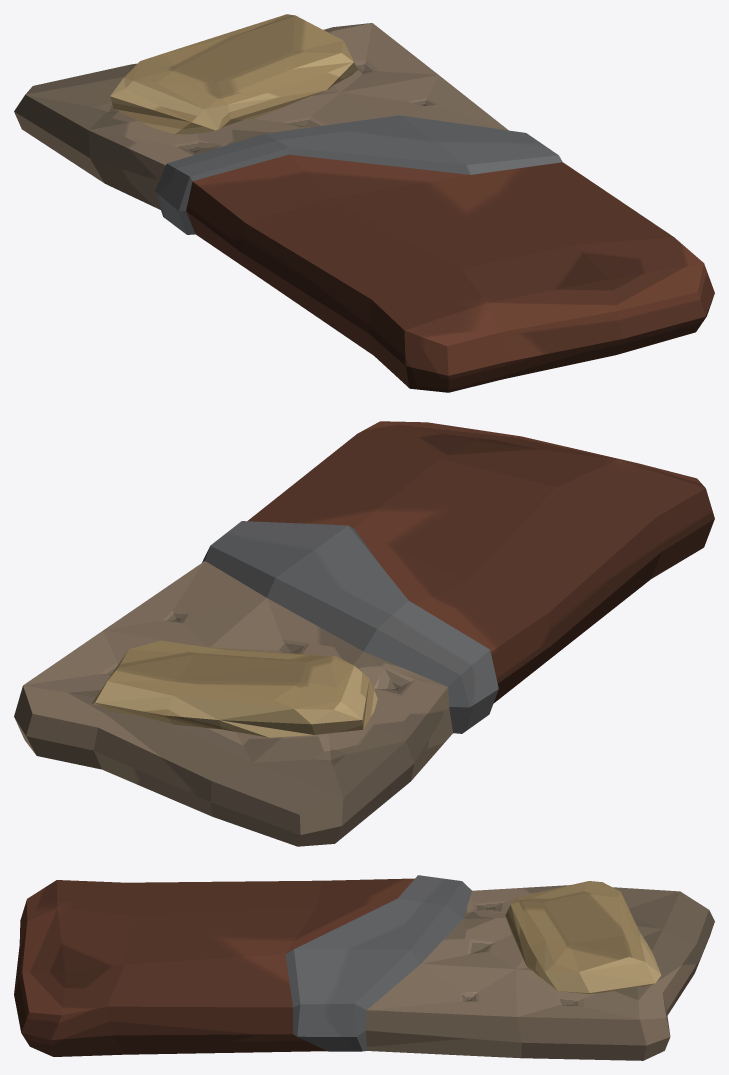
Rendered from SM_Prop_Old_Mattress_03.fbx.
3 views of the same model, one above another, from view 1: azimuth 30°, elevation 25°; view 2: azimuth 150°, elevation 25°; view 3: azimuth 270°, elevation 25° (orthographic). The views are drawn at different scales.
Parts seen in each view (by area): view 1: SM_Prop_Old_Mattress_03; view 2: SM_Prop_Old_Mattress_03; view 3: SM_Prop_Old_Mattress_03.
Boxes of the visible parts, x1,y1,x2,y2 form: SM_Prop_Old_Mattress_03: (14, 14, 714, 392); SM_Prop_Old_Mattress_03: (14, 421, 714, 846); SM_Prop_Old_Mattress_03: (14, 875, 714, 1060).
Bounding box in the file's own units: 107 × 25.75 × 226.
